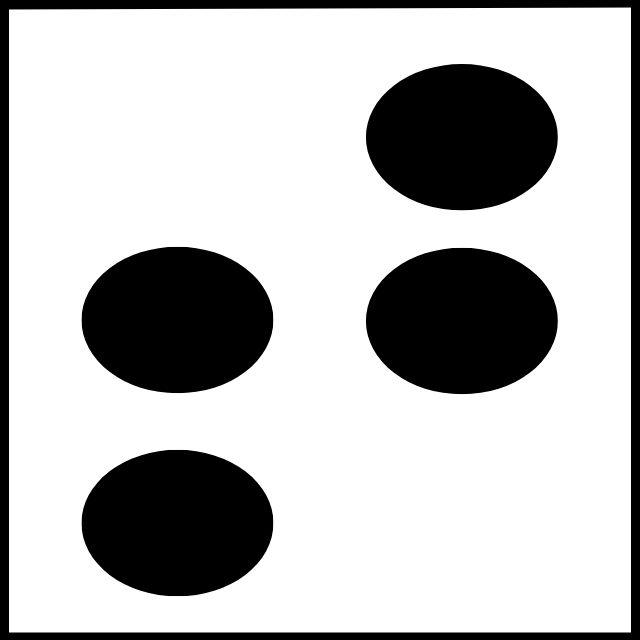tayo: (79, 65, 557, 595)
